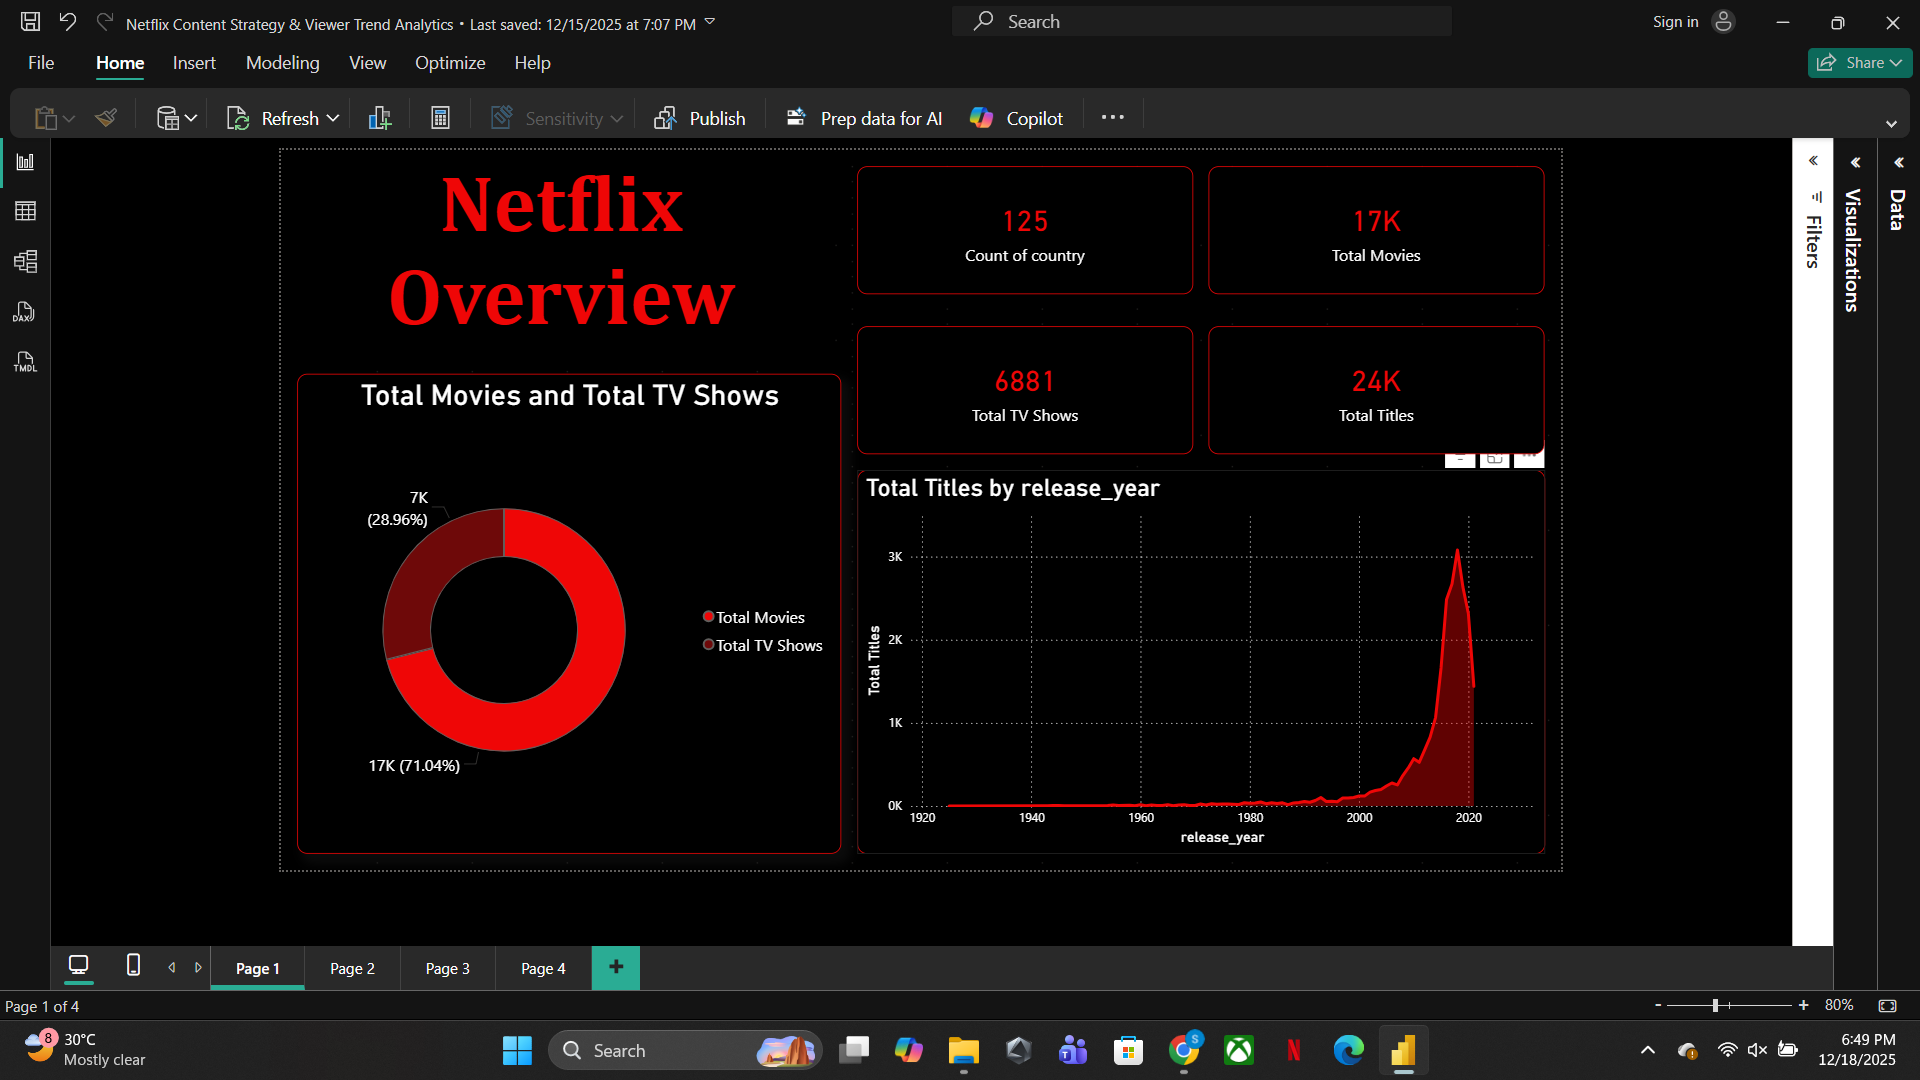

The page's visual inventory and layout, read from the dashboard file:
{"tool":"powerbi","page":{"name":"Page 1","canvas":[1280,720],"ordinal":0},"visuals":[{"type":"donutChart","fields":{"Y":["cleaned_netflix_data.Total Movies","cleaned_netflix_data.Total TV Shows"]},"box":[16,224,544,480],"z":0},{"type":"lineChart","fields":{"Y":["cleaned_netflix_data.Total Titles"],"Category":["cleaned_netflix_data.release_year"]},"box":[576,320,688,384],"z":1000},{"type":"card","fields":{"Values":["cleaned_netflix_data.Total Movies"]},"box":[928,16,336,128],"z":2000},{"type":"card","fields":{"Values":["cleaned_netflix_data.Total Titles"]},"box":[928,176,336,128],"z":3000},{"type":"card","fields":{"Values":["cleaned_netflix_data.Total TV Shows"]},"box":[576,176,336,128],"z":4000},{"type":"card","fields":{"Values":["Count(cleaned_netflix_data.country)"]},"box":[576,16,336,128],"z":5000},{"type":"textbox","box":[16,0,528,208],"z":6000}]}

Visuals, with their boxes on the page's 1280x720 design canvas (x1, y1, x2, y2). These are canvas units, not pixel positions in the 1920x1080 screenshot, which may show the page scaled, cropped or inside an application window:
donutChart - cleaned_netflix_data.Total Movies x cleaned_netflix_data.Total TV Shows: [left=16, top=224, right=560, bottom=704]
lineChart - cleaned_netflix_data.Total Titles x cleaned_netflix_data.release_year: [left=576, top=320, right=1264, bottom=704]
card - cleaned_netflix_data.Total Movies: [left=928, top=16, right=1264, bottom=144]
card - cleaned_netflix_data.Total Titles: [left=928, top=176, right=1264, bottom=304]
card - cleaned_netflix_data.Total TV Shows: [left=576, top=176, right=912, bottom=304]
card - Count(cleaned_netflix_data.country): [left=576, top=16, right=912, bottom=144]
textbox: [left=16, top=0, right=544, bottom=208]
